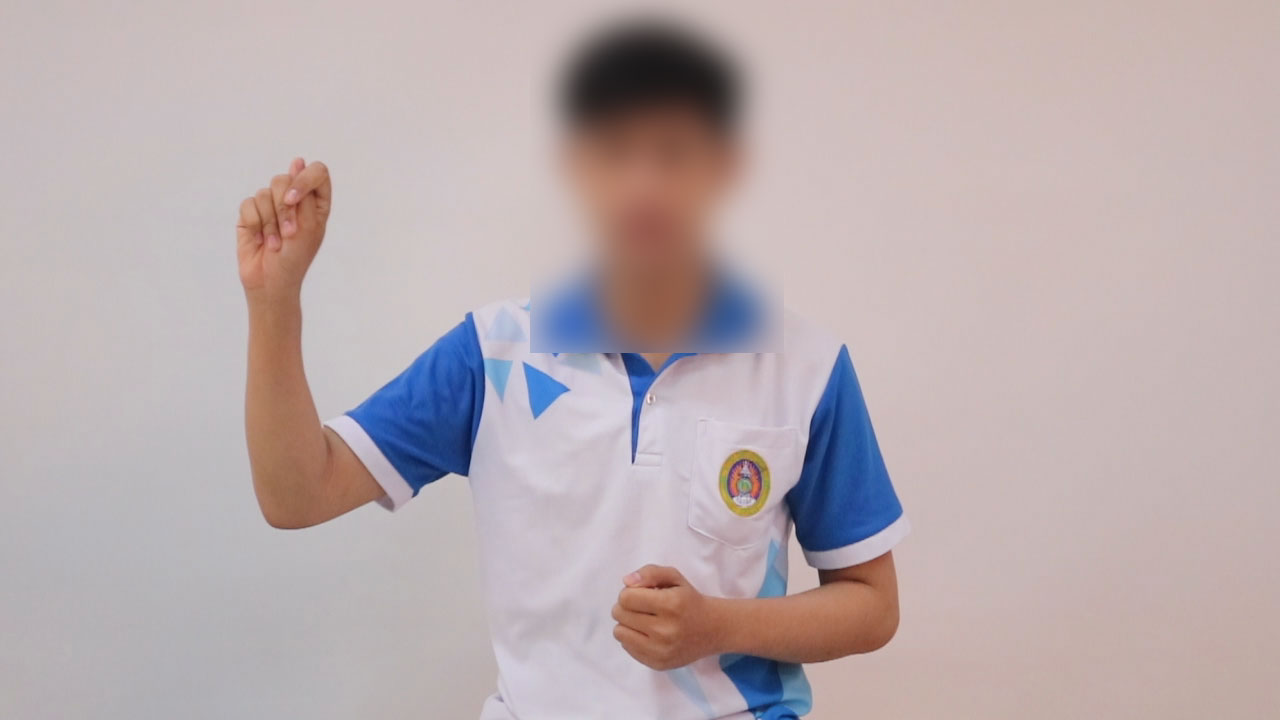tor: (219, 146, 352, 302)
